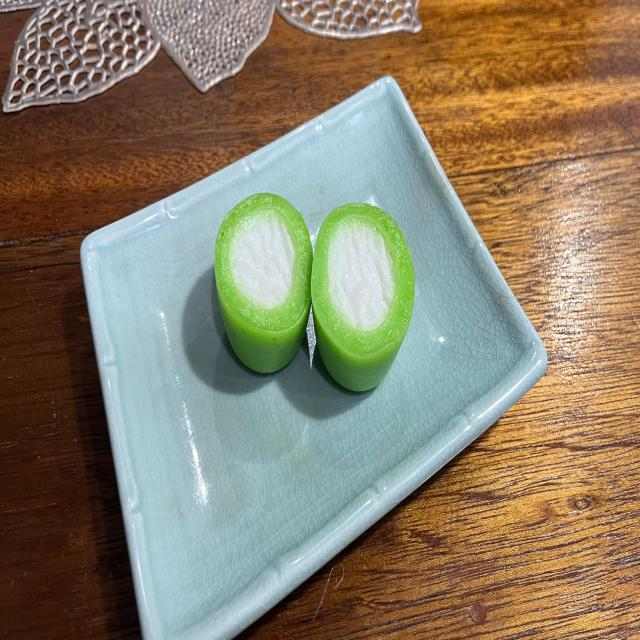nona-manis: (311, 202, 415, 391), (215, 193, 312, 373)
